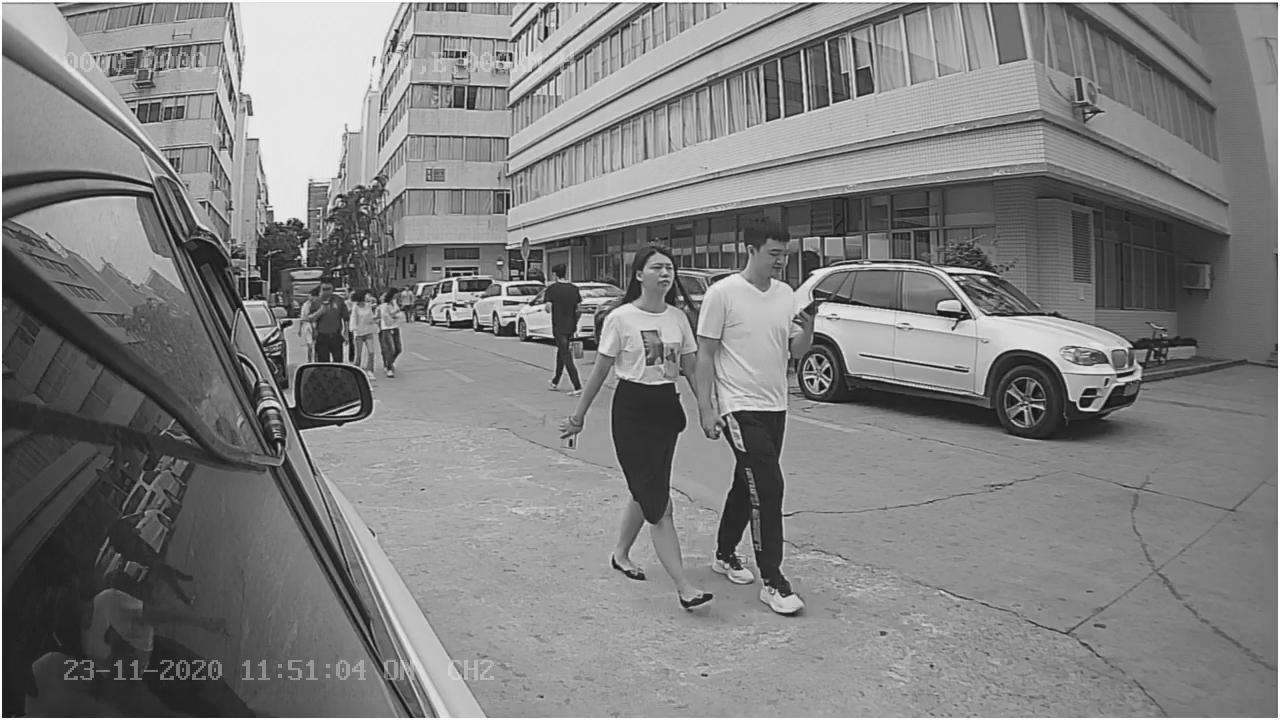person: (568, 239, 718, 615)
